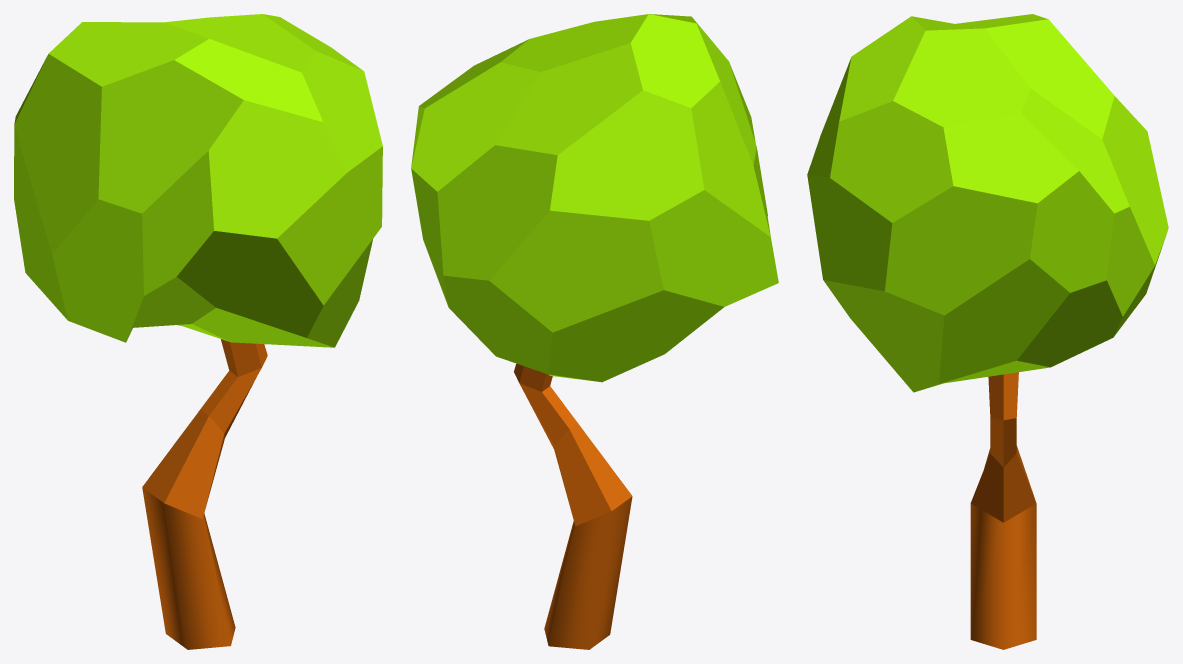
3 renders of one model, left to right at view 1: azimuth 30°, elevation 25°; view 2: azimuth 150°, elevation 25°; view 3: azimuth 270°, elevation 25°, orthographic. The views are drawn at different scales.
Visible parts, largest first — view 1: Hedra001; view 2: Hedra001; view 3: Hedra001.
Part boxes in pixels (bbox=[...]): Hedra001: bbox=[14, 14, 382, 649]; Hedra001: bbox=[411, 14, 778, 649]; Hedra001: bbox=[807, 14, 1168, 649].
Size of the model in its own units: 0.00658 by 0.0121 by 0.00676.
